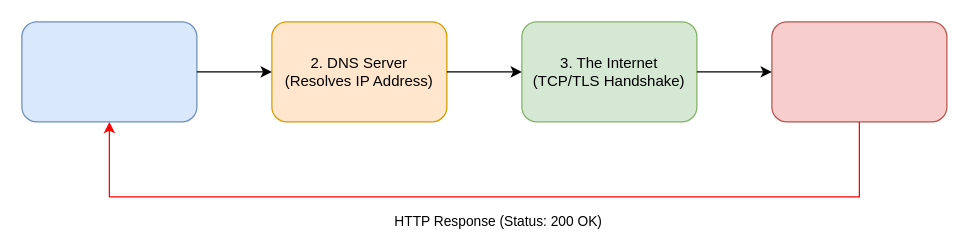
This 969x251 diagram has some shape labels left out. Here are the shapes that lost their labels. From the top down, the centre of each, then its label:
At pixel 109 71: "1. Browser / Client (Initiates Request)".
At pixel 859 71: "4. YouTube Server (Processes Request)".
